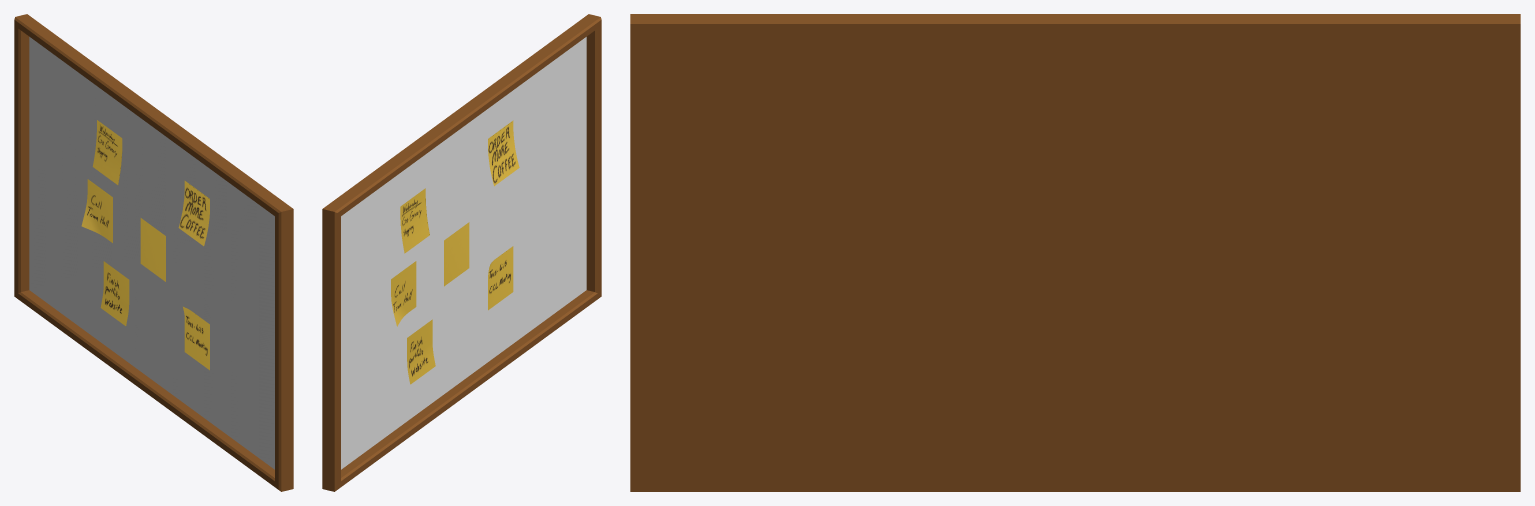
Rendered from corkboard.glb.
The picture shows the model from 3 angles, left to right: view 1: azimuth 30°, elevation 25°; view 2: azimuth 150°, elevation 25°; view 3: azimuth 270°, elevation 25°; orthographic projection. The views are drawn at different scales.
Parts seen in each view (by area): view 1: Corkboard, Postit.005, Postit.002, Postit.006, Postit.003, Postit.004, Postit.001; view 2: Corkboard, Postit.005, Postit.002, Postit.003, Postit.001, Postit.004, Postit.006; view 3: Corkboard.
Part boxes in pixels (x1,y1,x2,y2): Corkboard: (14,14,293,491); Postit.005: (178,180,209,246); Postit.002: (92,120,122,185); Postit.006: (81,179,112,242); Postit.003: (100,261,129,325); Postit.004: (183,306,209,370); Postit.001: (140,218,165,281); Corkboard: (322,14,601,491); Postit.005: (488,120,519,186); Postit.002: (400,188,429,253); Postit.003: (407,319,435,384); Postit.001: (444,222,469,286); Postit.004: (488,246,513,310); Postit.006: (391,261,416,326); Corkboard: (630,14,1520,491).
Bounding box in the file's own units: 0.444 × 8.59 × 14.8.
Materials: 3 (1 with a texture image).
